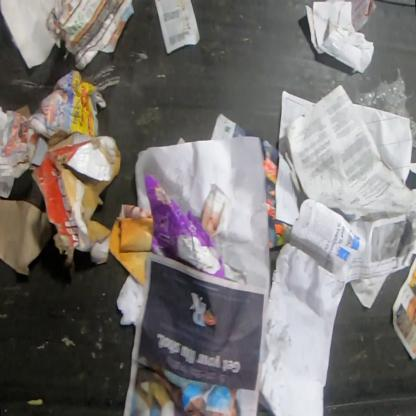cardboard: (29, 131, 123, 270), (0, 181, 56, 279)
soft_plastic: (144, 170, 226, 278), (357, 66, 415, 149)
